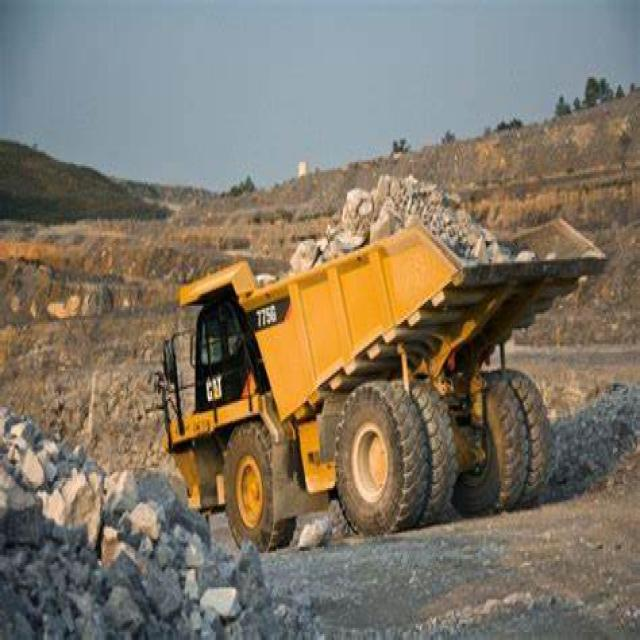dump_truck: (147, 170, 609, 559)
